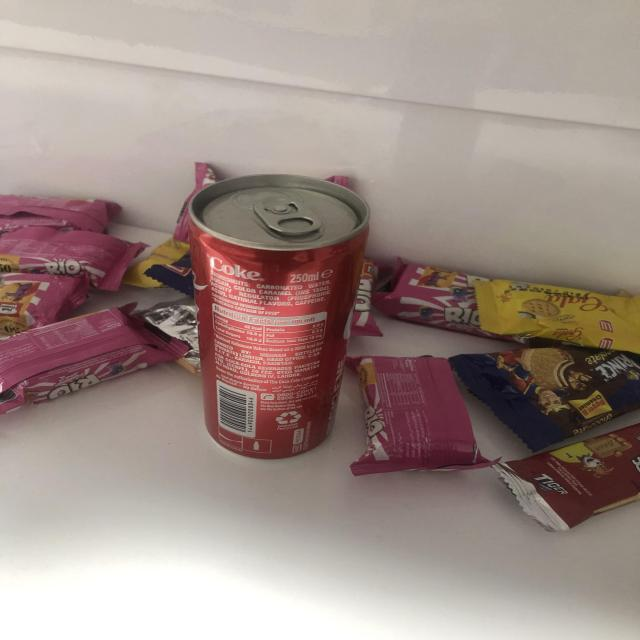tin can: (184, 171, 375, 463)
